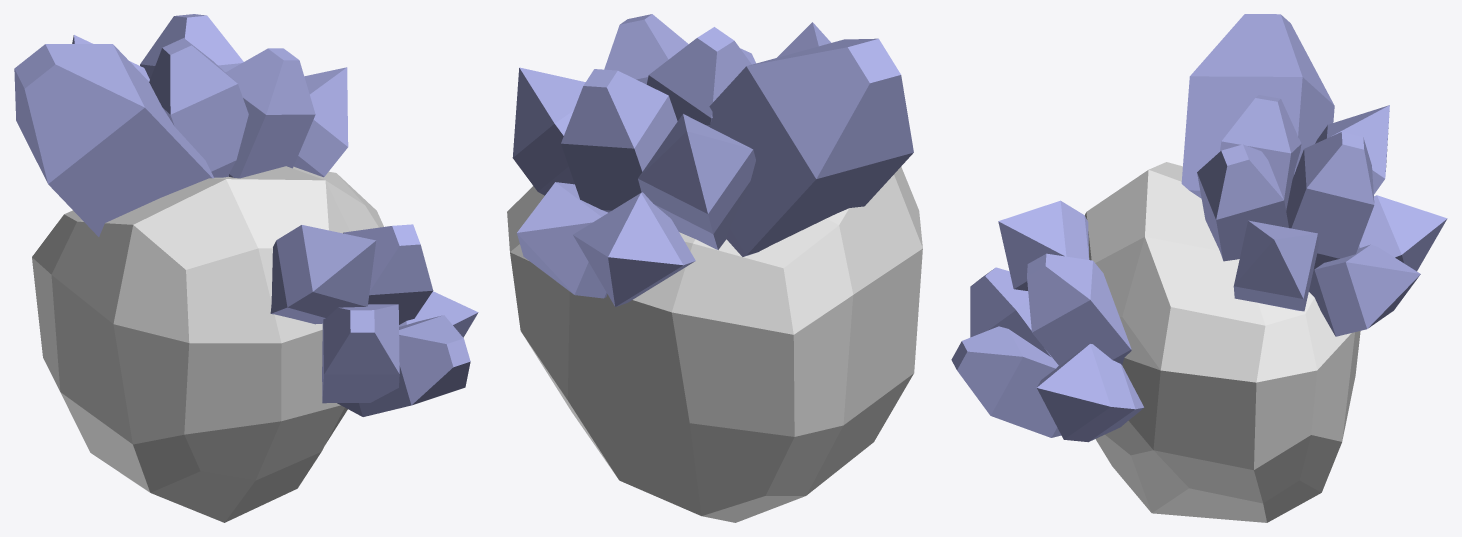
The model's file is Stone_crystal.fbx.
3 views of the same model, side by side, from view 1: azimuth 30°, elevation 25°; view 2: azimuth 150°, elevation 25°; view 3: azimuth 270°, elevation 25° (orthographic). The views are drawn at different scales.
Visible parts, largest first — view 1: Stone_crystal; view 2: Stone_crystal; view 3: Stone_crystal.
Part boxes in pixels (x1=…): Stone_crystal: x1=14, y1=14, x2=478, y2=522; Stone_crystal: x1=507, y1=14, x2=922, y2=522; Stone_crystal: x1=951, y1=14, x2=1447, y2=522.
Size of the model in its own units: 386 by 479 by 499.
